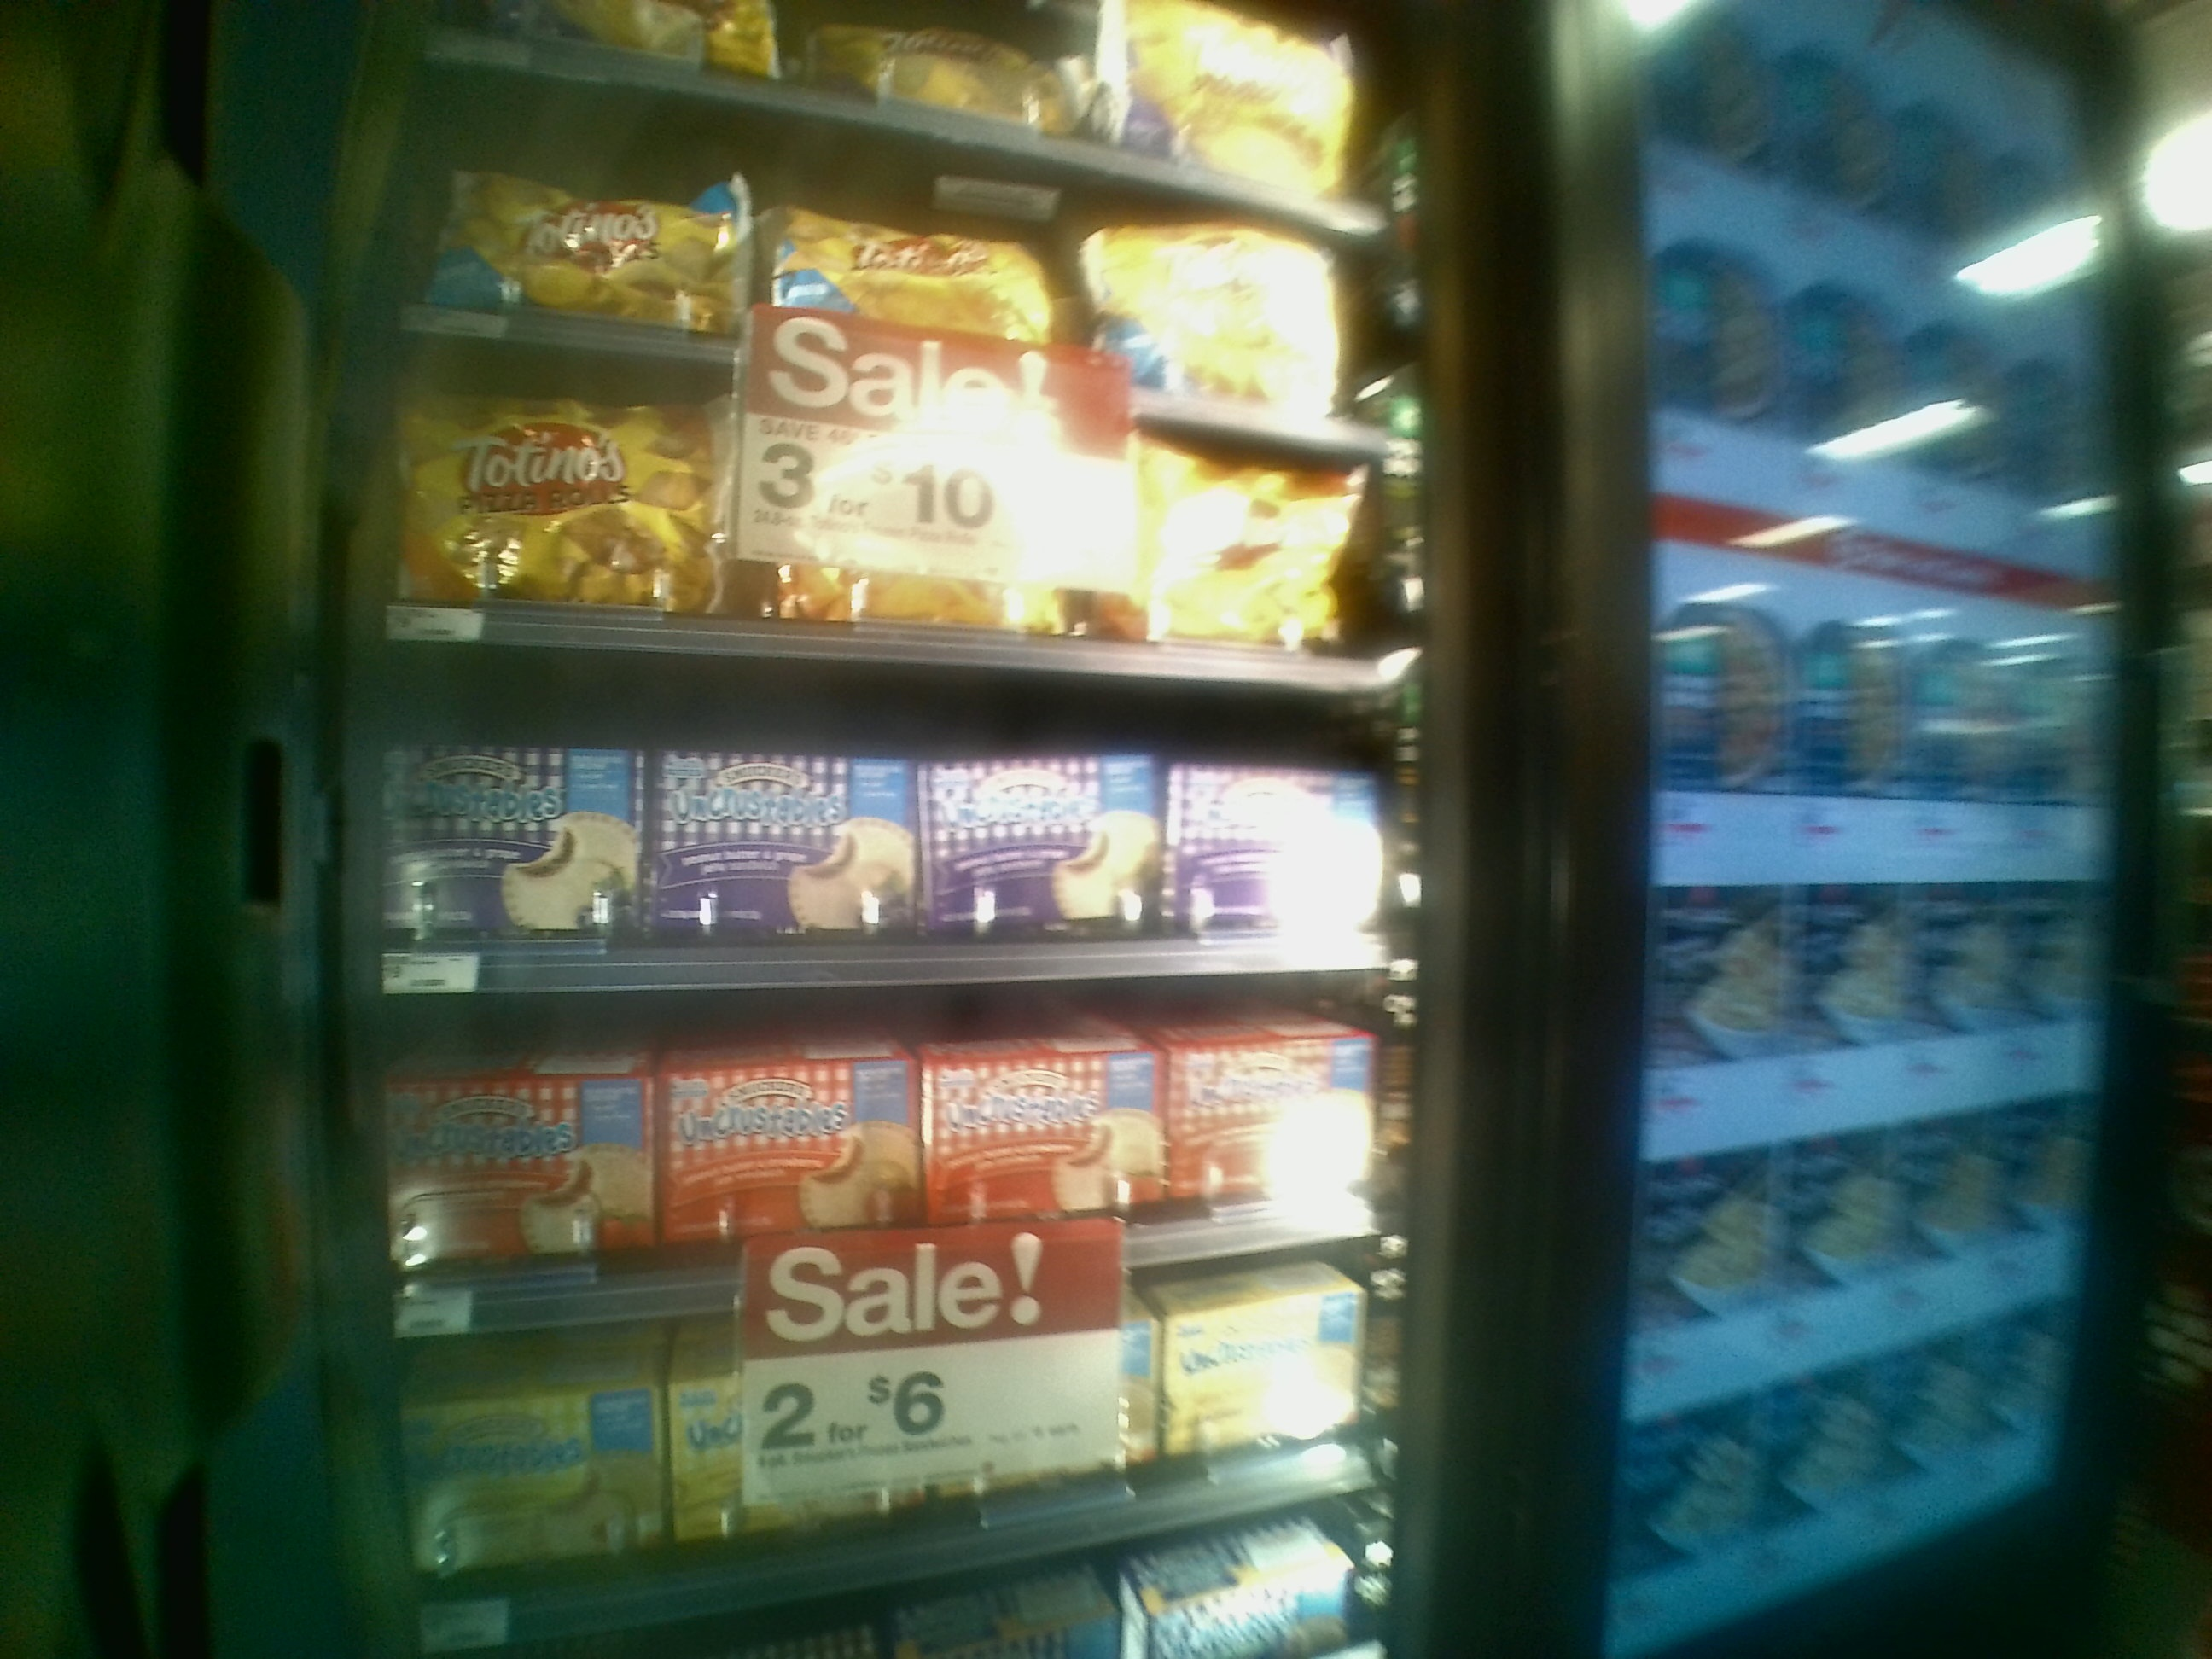shelf: (340, 314, 1421, 694), (308, 641, 1406, 988), (319, 992, 1433, 1316), (340, 1335, 1404, 1586)
